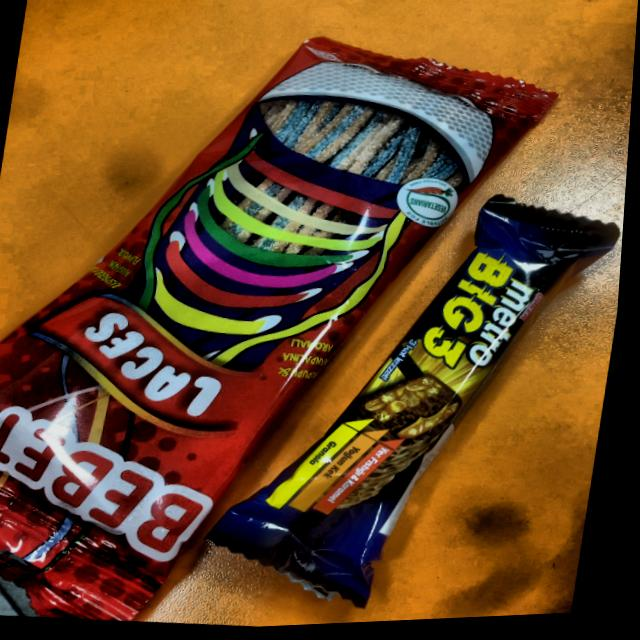Plastic: (0, 18, 601, 620), (194, 193, 615, 621)
